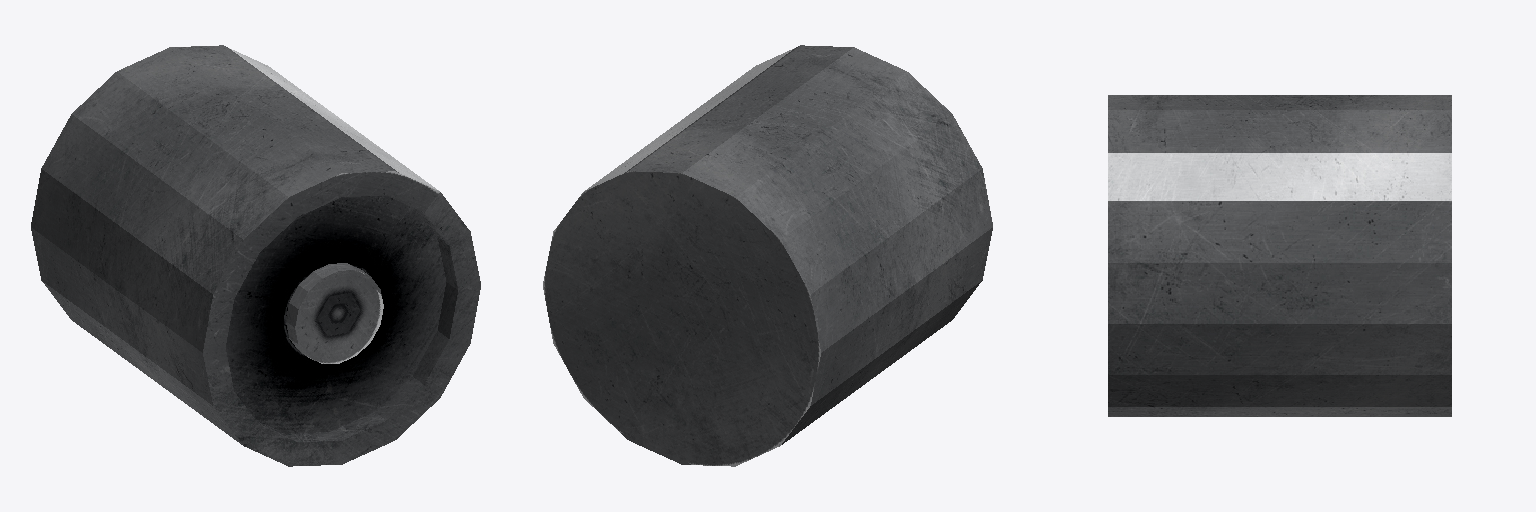
The picture shows the model from 3 angles: view 1: azimuth 30°, elevation 25°; view 2: azimuth 150°, elevation 25°; view 3: azimuth 270°, elevation 25°; orthographic projection.
Parts seen in each view (by area): view 1: fblw_Cylinder.001; view 2: fblw_Cylinder.001; view 3: fblw_Cylinder.001.
Boxes of the visible parts, box(x1,y1,x2,y2) form: fblw_Cylinder.001: box(31, 45, 480, 466); fblw_Cylinder.001: box(543, 45, 992, 466); fblw_Cylinder.001: box(1108, 95, 1451, 416).
Size of the model in its own units: 1.5 by 1.5 by 1.6.
1 materials, 1 textured.